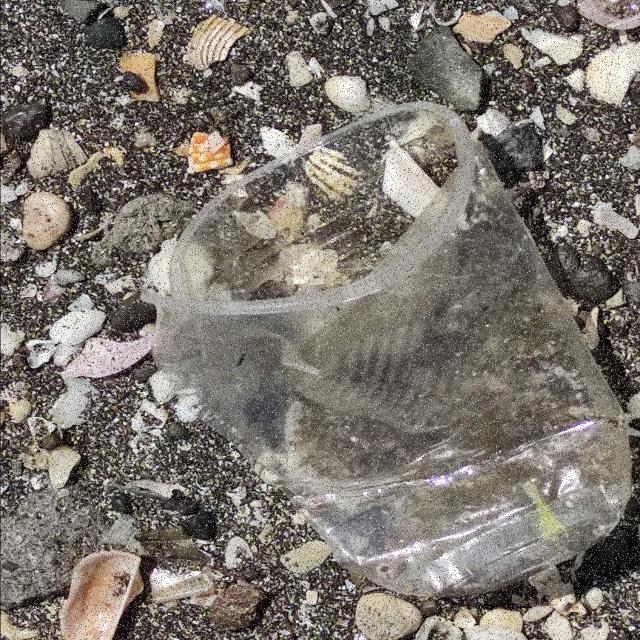plastic_waste: (139, 99, 633, 600)
